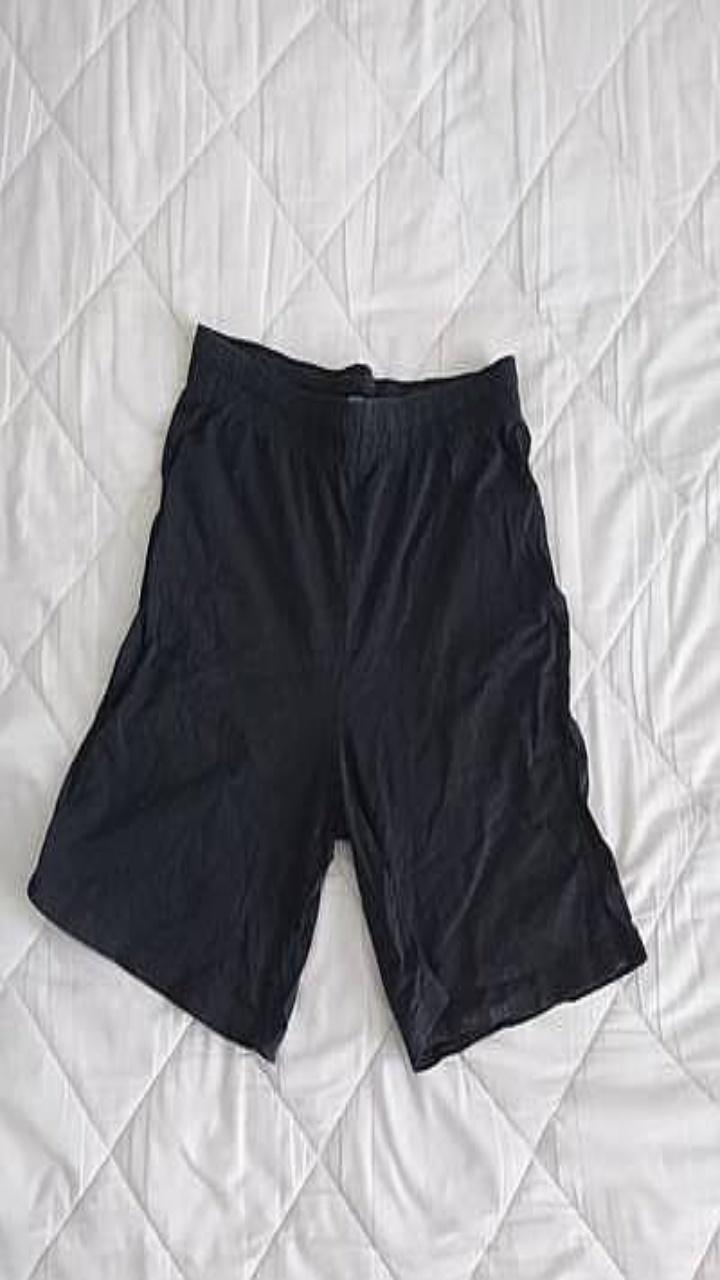Shorts: (27, 325, 645, 1070)
